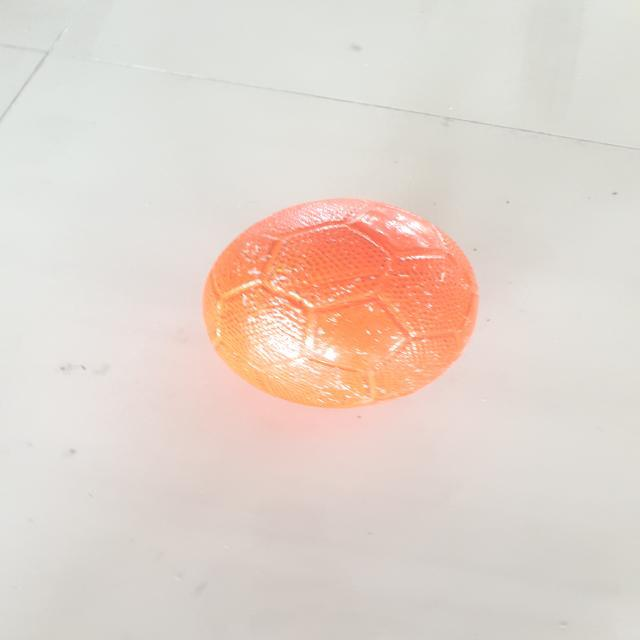bola: (177, 187, 514, 411)
